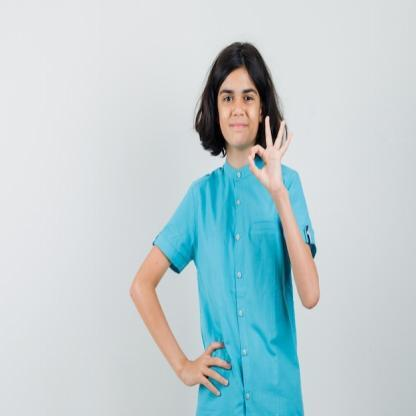ok: (245, 110, 296, 196)
